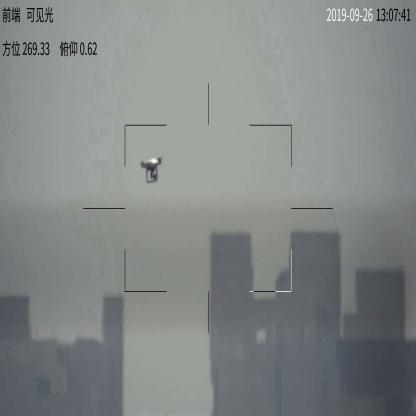uav: (134, 154, 166, 186)
